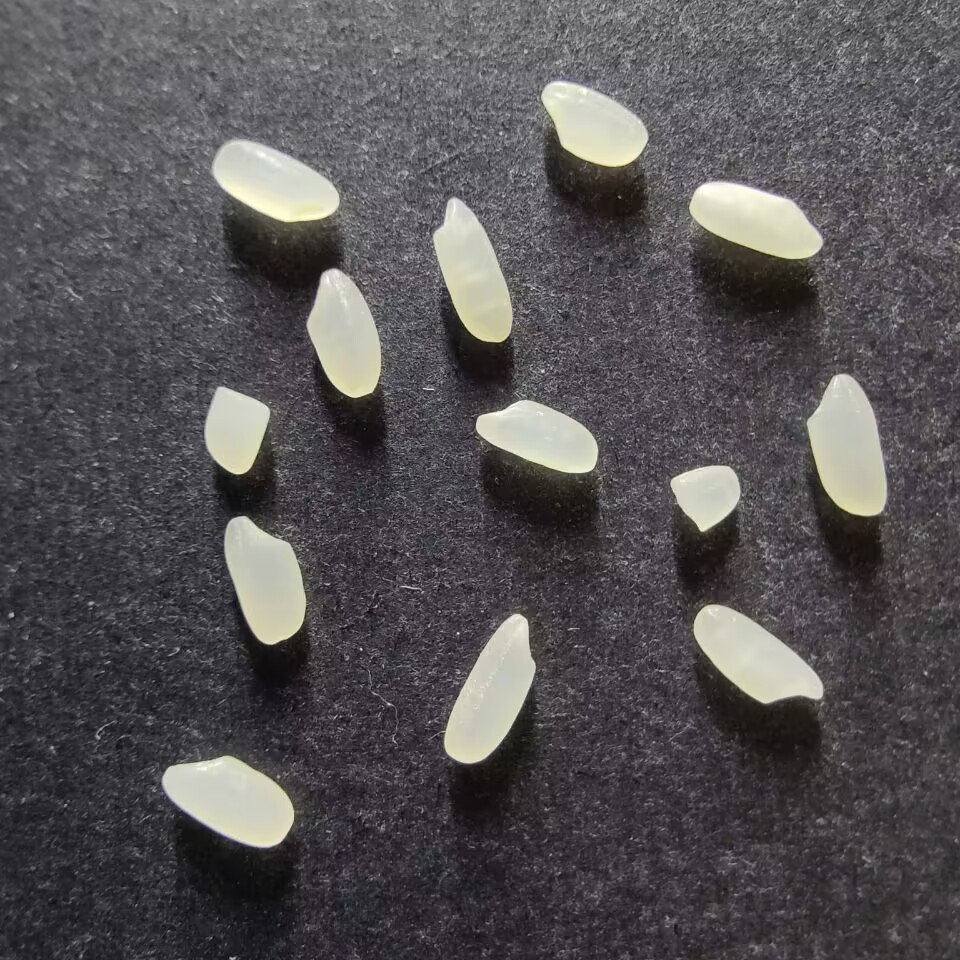broken: (203, 386, 271, 475), (669, 465, 740, 532)
rice: (443, 612, 537, 764), (692, 604, 823, 705), (161, 755, 294, 849), (431, 197, 514, 343), (805, 373, 887, 516), (688, 181, 823, 260), (223, 515, 305, 645), (211, 140, 339, 223), (305, 267, 382, 398), (540, 81, 648, 167), (474, 399, 597, 474)
